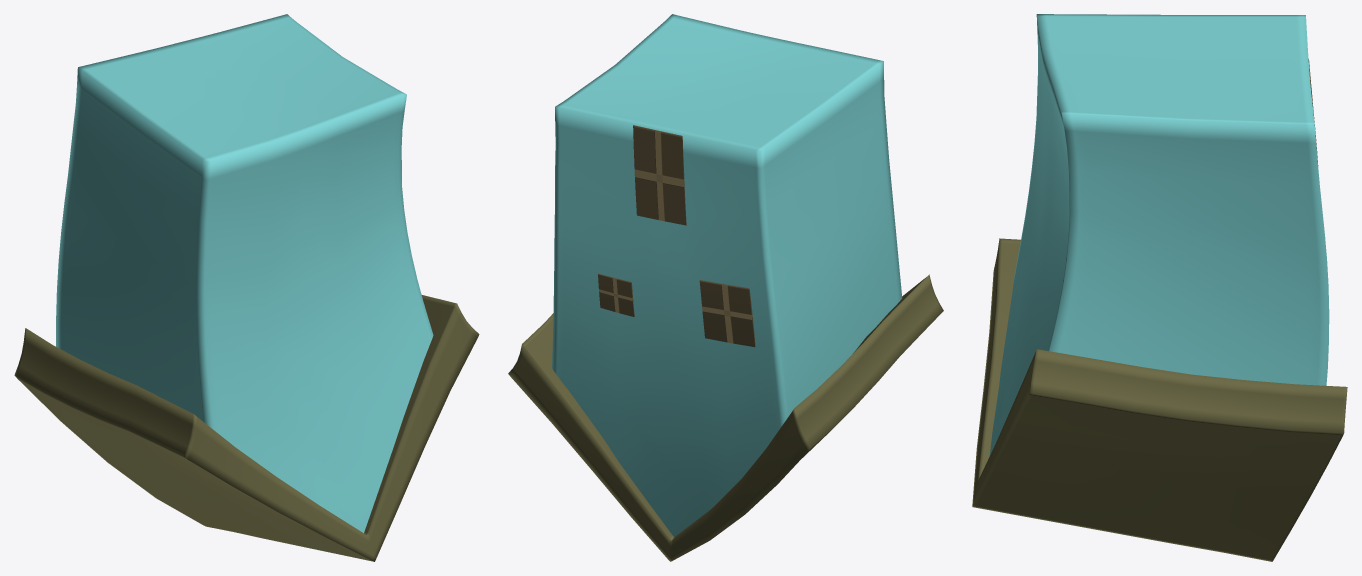
File: house4.fbx
The picture shows the model from 3 angles, left to right: view 1: azimuth 30°, elevation 25°; view 2: azimuth 150°, elevation 25°; view 3: azimuth 270°, elevation 25°; orthographic projection. The views are drawn at different scales.
Visible parts, largest first — view 1: house.001; view 2: house.001; view 3: house.001.
Part boxes in pixels (x1=…): house.001: x1=14, y1=14, x2=479, y2=561; house.001: x1=508, y1=14, x2=943, y2=561; house.001: x1=972, y1=14, x2=1347, y2=561.
Size of the model in its own units: 162 by 229 by 156.
